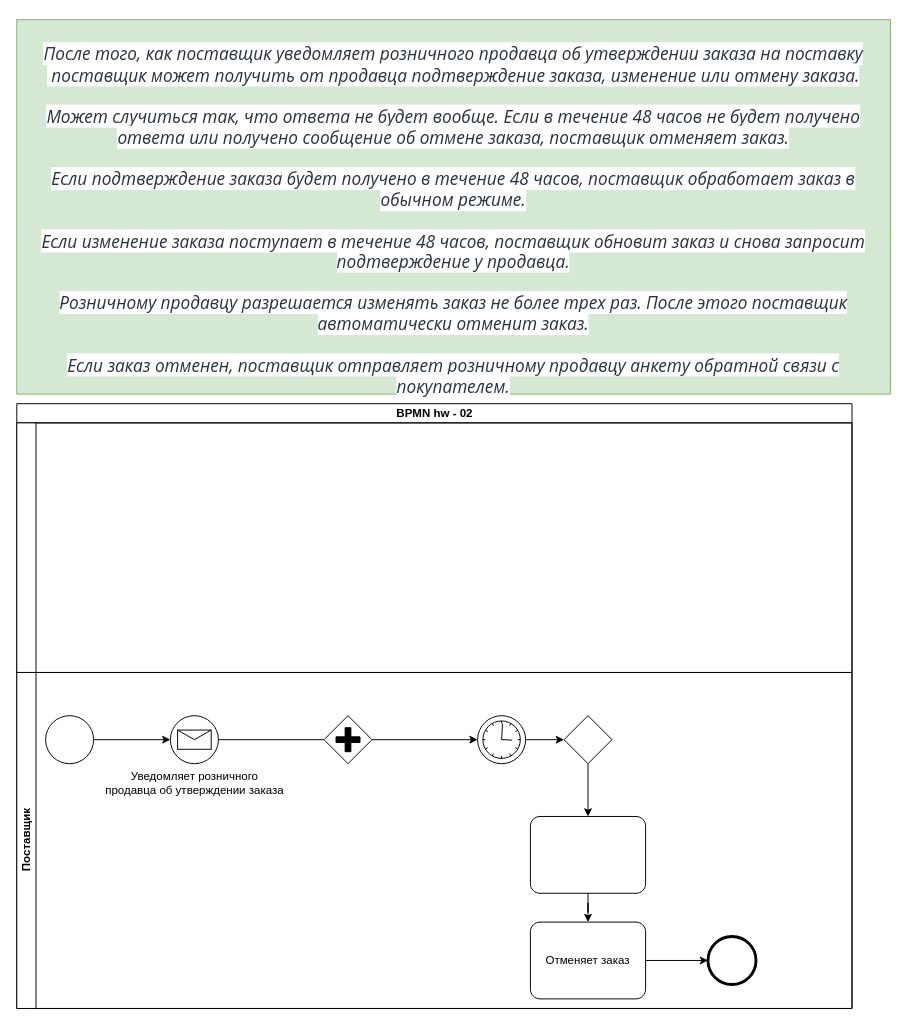
The diagram is 907 pixels wide and 1025 high, and some of its shapes have lost their labels. Each missing label, with the box of its shape:
48 часов: (477, 715, 526, 764)
Ответа не получено: (529, 816, 646, 893)
Розничный продавец: (16, 422, 852, 672)
